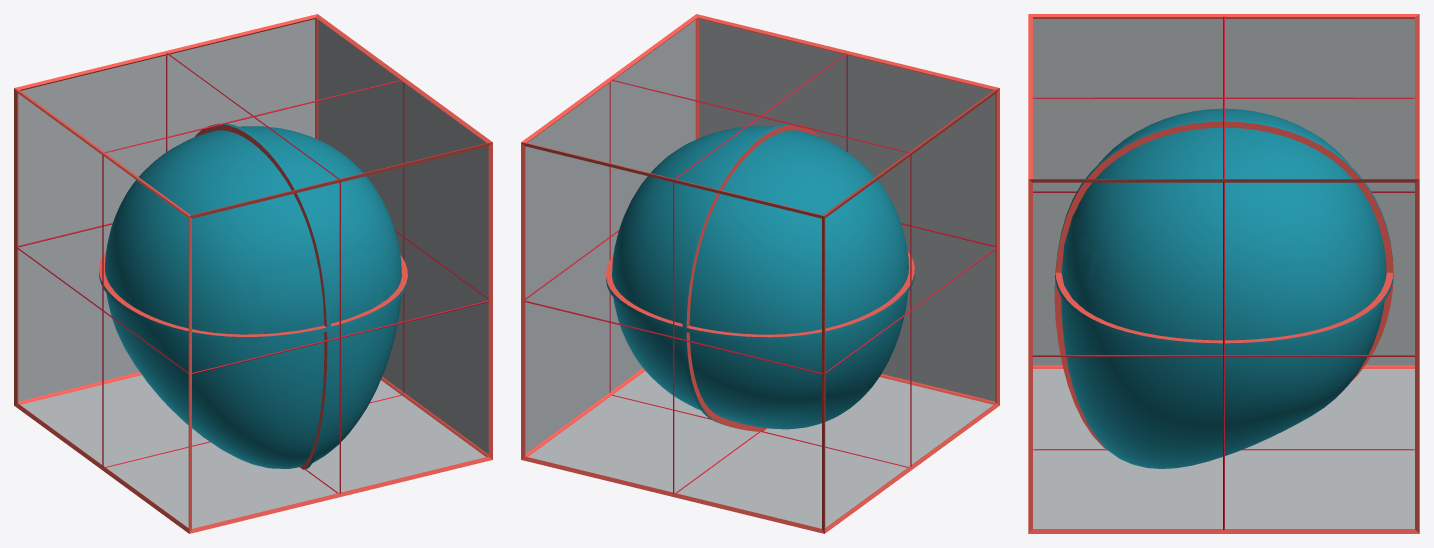
The model's file is art-head.glb.
The picture shows the model from 3 angles, left to right: view 1: azimuth 30°, elevation 25°; view 2: azimuth 150°, elevation 25°; view 3: azimuth 270°, elevation 25°; orthographic projection. The views are drawn at different scales.
Visible parts, largest first — view 1: cube-back, head-smooth, cube-bounds, sphere-smooth, head-lines, cube-grid; view 2: cube-back, head-smooth, cube-bounds, head-lines, cube-grid; view 3: cube-back, head-smooth, cube-bounds, head-lines, cube-grid, sphere-smooth.
Boxes of the visible parts, x1=… form: cube-back: x1=18, y1=19, x2=488, y2=528; head-smooth: x1=105, y1=126, x2=401, y2=468; cube-bounds: x1=14, y1=14, x2=492, y2=533; sphere-smooth: x1=188, y1=241, x2=399, y2=337; head-lines: x1=99, y1=123, x2=407, y2=469; cube-grid: x1=16, y1=53, x2=489, y2=493; cube-back: x1=525, y1=19, x2=995, y2=528; head-smooth: x1=612, y1=126, x2=908, y2=429; cube-bounds: x1=521, y1=14, x2=999, y2=533; head-lines: x1=606, y1=123, x2=914, y2=431; cube-grid: x1=524, y1=53, x2=997, y2=493; cube-back: x1=1033, y1=19, x2=1414, y2=528; head-smooth: x1=1061, y1=108, x2=1386, y2=468; cube-bounds: x1=1028, y1=14, x2=1419, y2=533; head-lines: x1=1054, y1=119, x2=1393, y2=450; cube-grid: x1=1031, y1=16, x2=1416, y2=530; sphere-smooth: x1=1061, y1=209, x2=1133, y2=329.
Bounding box in the file's own units: 2.02 × 2.09 × 2.02.
Materials: 1 (1 with a texture image).
